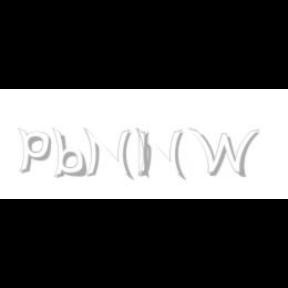N: (83, 128, 132, 180), (136, 128, 184, 180)
W: (188, 128, 260, 178)
b: (52, 128, 90, 178)
l: (137, 128, 153, 180)
p: (18, 128, 55, 174)
